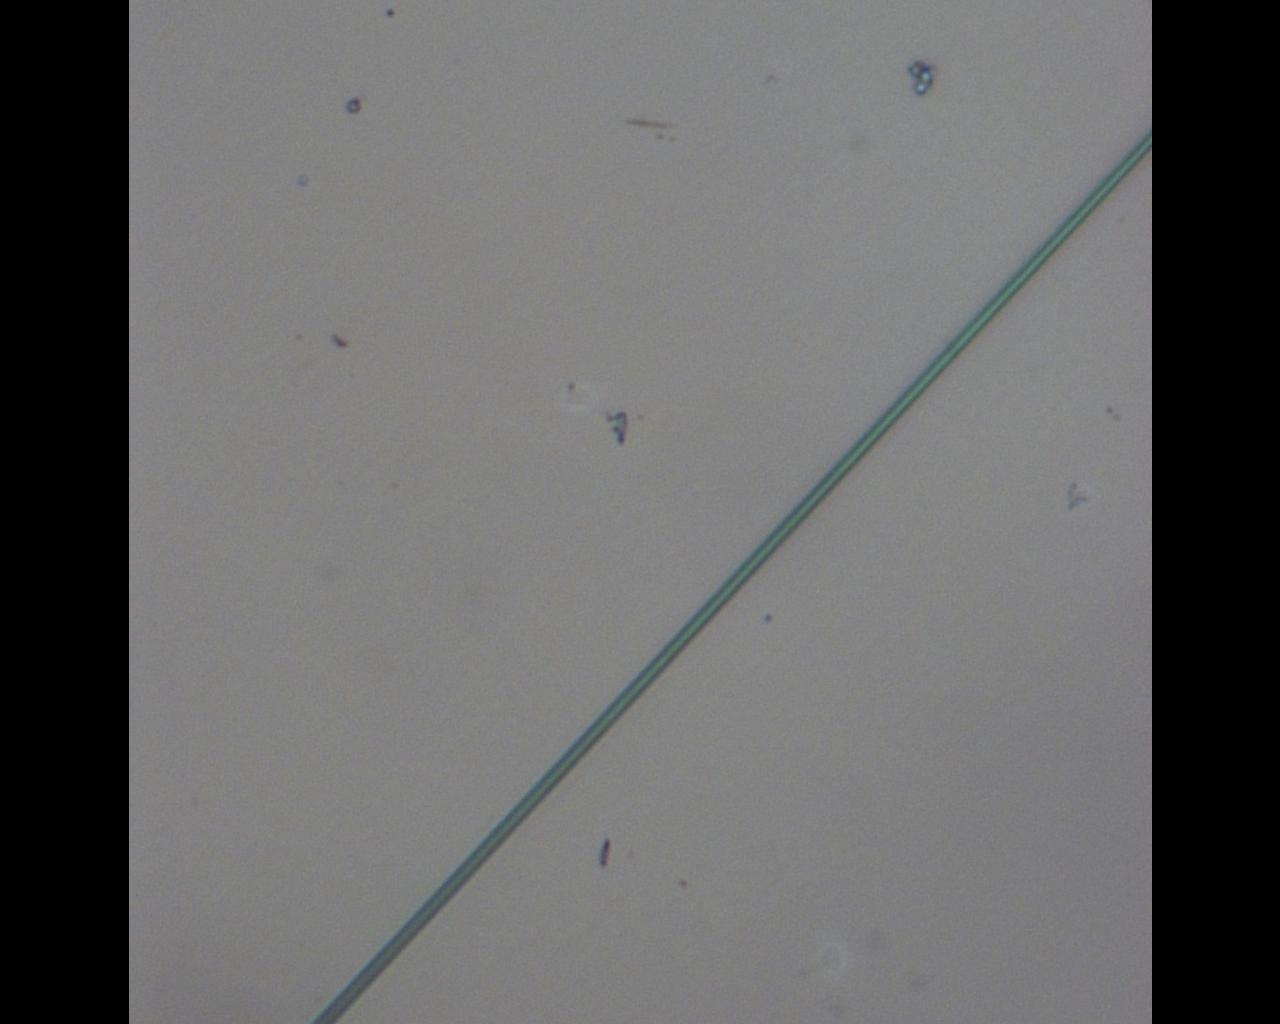fiber: (311, 123, 1151, 1024)
